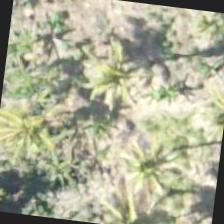Kelapa_Sawit: (69, 27, 169, 128), (94, 118, 194, 218), (0, 85, 78, 185)
